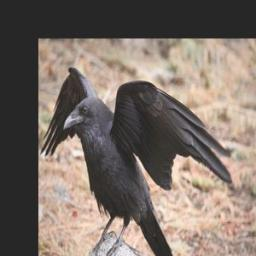Crow: (40, 64, 235, 256)
